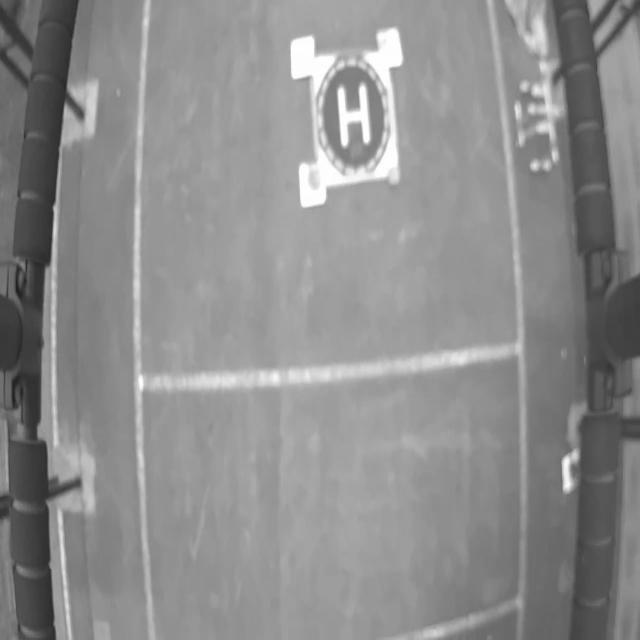Helipad: (336, 83, 372, 149)
